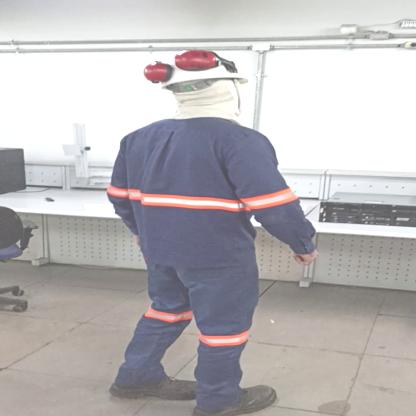Balaclava: (143, 80, 255, 125)
Capacete: (136, 52, 257, 86)
